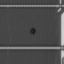dust: (29, 26, 37, 34)
